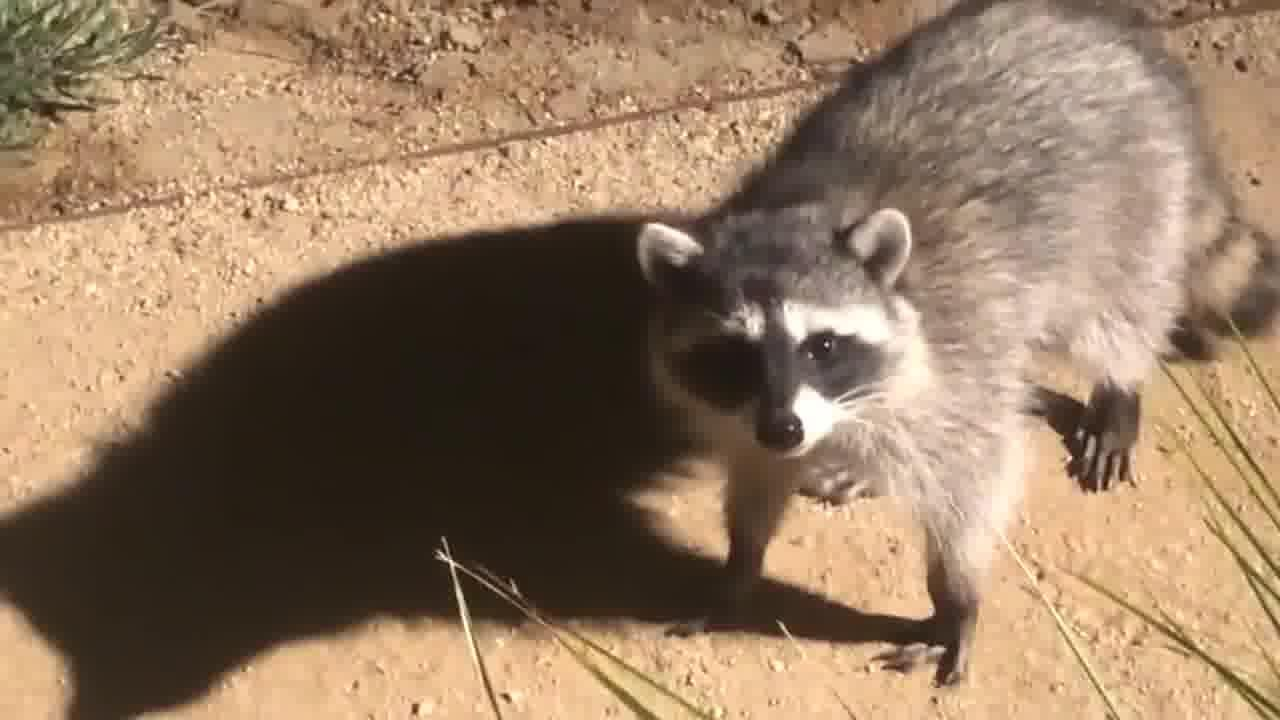raccoon: (620, 7, 1280, 691)
